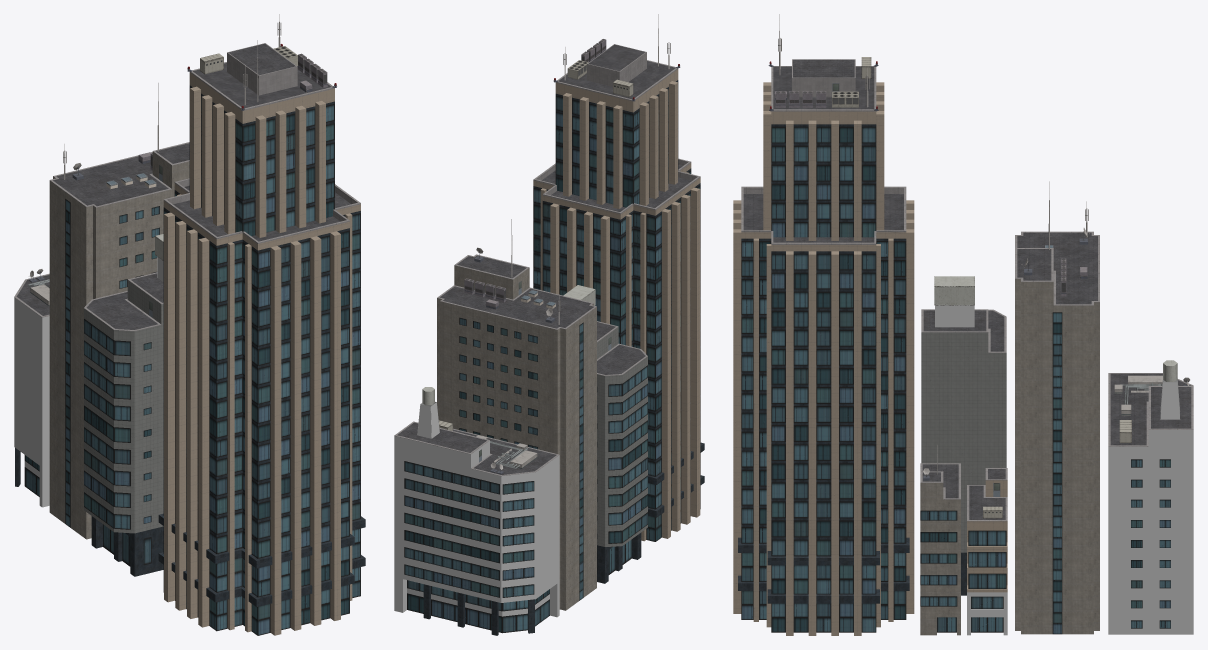
The model's file is buildSetB.FBX.
The picture shows the model from 3 angles, left to right: view 1: azimuth 30°, elevation 25°; view 2: azimuth 150°, elevation 25°; view 3: azimuth 270°, elevation 25°; orthographic projection. The views are drawn at different scales.
Visible parts, largest first — view 1: buildSetB; view 2: buildSetB; view 3: buildSetB.
Boxes of the visible parts, bbox=[...] form: buildSetB: bbox=[14, 14, 365, 635]; buildSetB: bbox=[394, 14, 704, 635]; buildSetB: bbox=[733, 14, 1193, 635].
Size of what is drawn, in the model's own units: 990 by 2325 by 3182.
